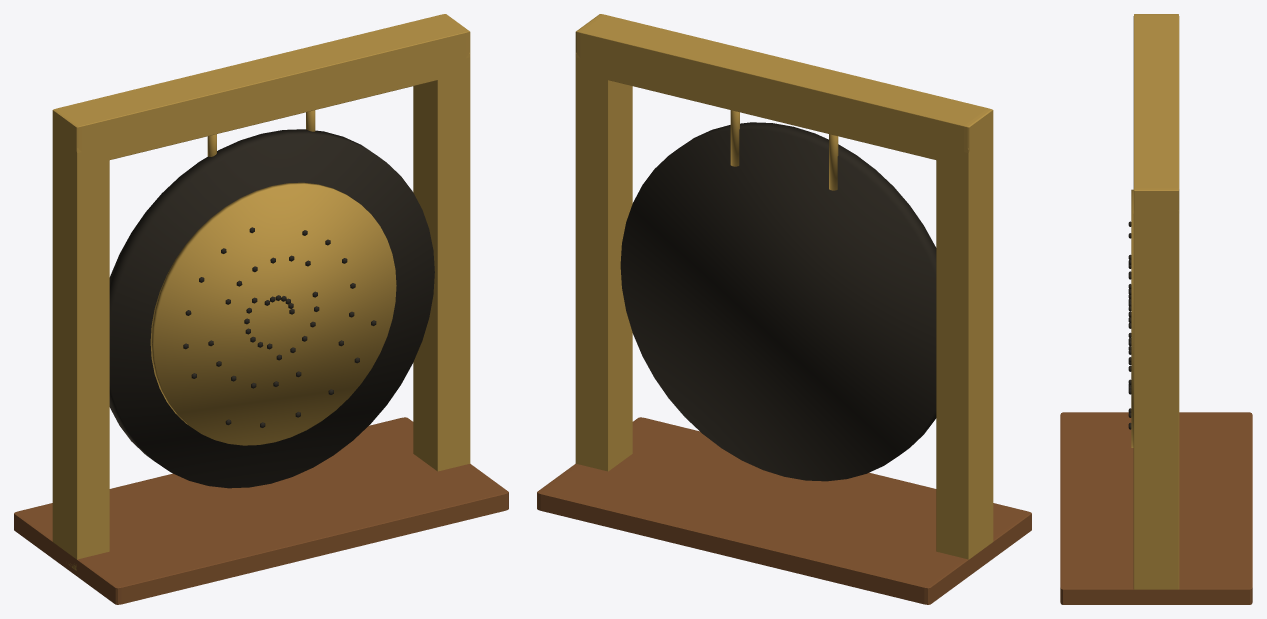
3 views of the same model, side by side, from view 1: azimuth 30°, elevation 25°; view 2: azimuth 150°, elevation 25°; view 3: azimuth 270°, elevation 25° (orthographic). The views are drawn at different scales.
Parts seen in each view (by area): view 1: TI057 / gold sounding disc, TI057 / black gong rim, TI057 / gong display footing, TI057 / frame top crossbar, TI057 / ornate frame upright, TI057 / ornate frame upright.001; view 2: TI057 / black gong rim, TI057 / gong display footing, TI057 / frame top crossbar, TI057 / ornate frame upright, TI057 / ornate frame upright.001; view 3: TI057 / gong display footing, TI057 / ornate frame upright.001, TI057 / frame top crossbar, TI057 / gold sounding disc.
Boxes of the visible parts, box(x1,y1,x2,y2) form: TI057 / gold sounding disc: box(150, 182, 396, 445); TI057 / black gong rim: box(109, 129, 434, 488); TI057 / gong display footing: box(14, 417, 508, 604); TI057 / frame top crossbar: box(52, 14, 470, 167); TI057 / ornate frame upright: box(52, 140, 109, 570); TI057 / ornate frame upright.001: box(413, 52, 470, 471); TI057 / black gong rim: box(620, 122, 936, 481); TI057 / gong display footing: box(537, 417, 1031, 604); TI057 / frame top crossbar: box(575, 14, 993, 167); TI057 / ornate frame upright: box(936, 136, 993, 559); TI057 / ornate frame upright.001: box(575, 52, 632, 471); TI057 / gong display footing: box(1060, 412, 1252, 604); TI057 / ornate frame upright.001: box(1133, 210, 1179, 589); TI057 / frame top crossbar: box(1133, 14, 1179, 227); TI057 / gold sounding disc: box(1131, 189, 1133, 447).
Bounding box in the file's own units: 2.4 × 2.62 × 1.1.
